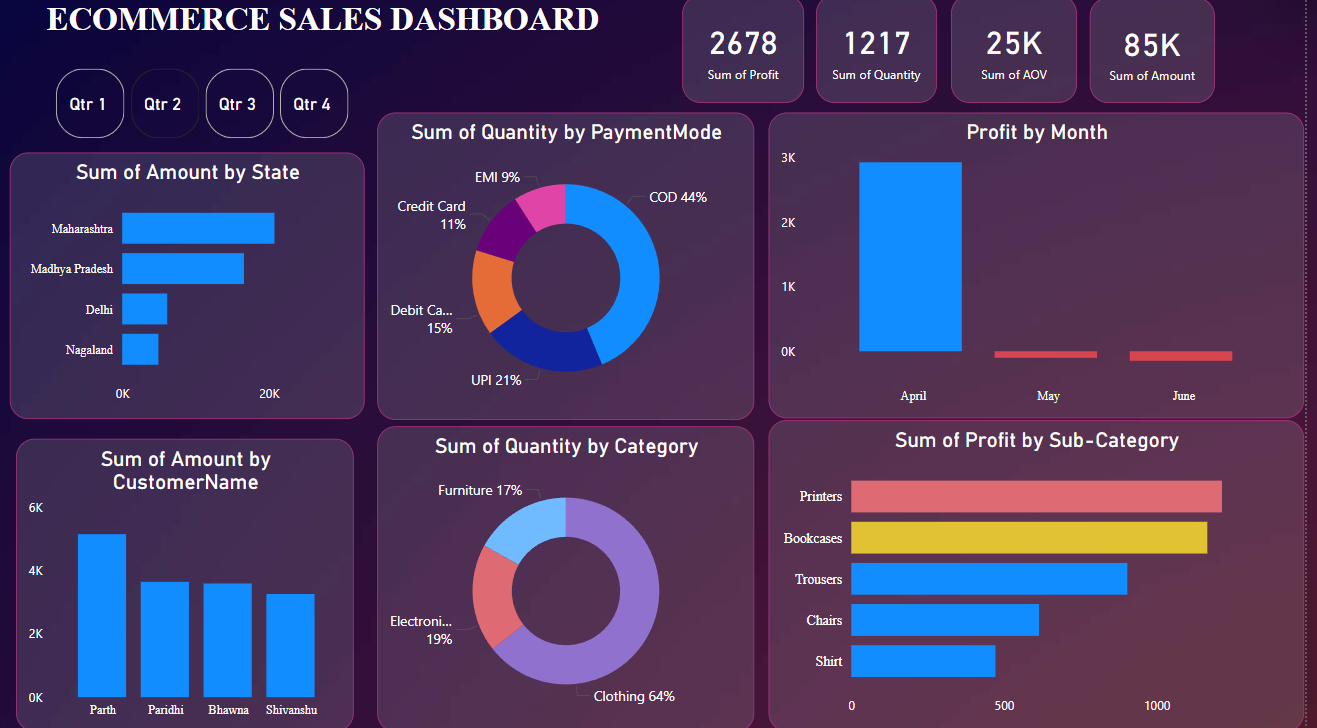

The dashboard page shown, as its layout file describes it:
{"tool":"powerbi","page":{"name":"Page 1","canvas":[1280,720],"ordinal":0},"visuals":[{"type":"textbox","box":[0,0,639.5,67.2],"z":0},{"type":"columnChart","title":"Profit by Month","fields":{"Y":["Details.Profit"],"Category":["Orders (2).Order Date.Variation.Date Hierarchy.Month"]},"box":[756.1,115.3,524.2,299.1],"z":1000},{"type":"barChart","fields":{"Category":["Details.Sub-Category"],"Y":["Details.Profit"]},"box":[756.1,415.8,524.2,304.6],"z":2000},{"type":"donutChart","fields":{"Category":["Details.Category"],"Y":["Details.Quantity"]},"box":[373.2,421.3,369.1,299.1],"z":3000},{"type":"donutChart","fields":{"Y":["Details.Quantity"],"Category":["Details.PaymentMode"]},"box":[373.2,115.3,369.1,300.5],"z":4000},{"type":"card","fields":{"Values":["Details.Amount"]},"box":[1070.3,2.7,122.1,102.9],"z":5000},{"type":"card","fields":{"Values":["Details.Profit"]},"box":[671,0,119.4,105.7],"z":6000},{"type":"card","fields":{"Values":["Details.AOV"]},"box":[934.5,0,123.5,105.7],"z":7000},{"type":"card","fields":{"Values":["Details.Quantity"]},"box":[802.7,0,118,105.7],"z":8000},{"type":"barChart","fields":{"Y":["Details.Amount"],"Category":["Orders (2).State"]},"box":[13.7,153.7,347.2,260.7],"z":9000},{"type":"columnChart","fields":{"Category":["Orders (2).CustomerName"],"Y":["Details.Amount"]},"box":[19.2,433.6,330.7,286.8],"z":10000},{"type":"advancedSlicerVisual","fields":{"Values":["Orders (2).Order Date.Variation.Date Hierarchy.Quarter"]},"box":[53.5,67.2,296.4,78.2],"z":10001}]}

Visuals, with their boxes in screenshot pixels (x1, y1, x2, y2), scaled from the page's 1280x720 canvas onto the 1317x728 screenshot:
textbox: <region>0, 0, 658, 68</region>
"Profit by Month" columnChart: <region>778, 117, 1316, 419</region>
barChart - Details.Sub-Category x Details.Profit: <region>778, 420, 1316, 727</region>
donutChart - Details.Category x Details.Quantity: <region>384, 426, 764, 727</region>
donutChart - Details.Quantity x Details.PaymentMode: <region>384, 117, 764, 420</region>
card - Details.Amount: <region>1101, 3, 1227, 107</region>
card - Details.Profit: <region>690, 0, 813, 107</region>
card - Details.AOV: <region>962, 0, 1089, 107</region>
card - Details.Quantity: <region>826, 0, 947, 107</region>
barChart - Details.Amount x Orders (2).State: <region>14, 155, 371, 419</region>
columnChart - Orders (2).CustomerName x Details.Amount: <region>20, 438, 360, 727</region>
advancedSlicerVisual - Orders (2).Order Date.Variation.Date Hierarchy.Quarter: <region>55, 68, 360, 147</region>
